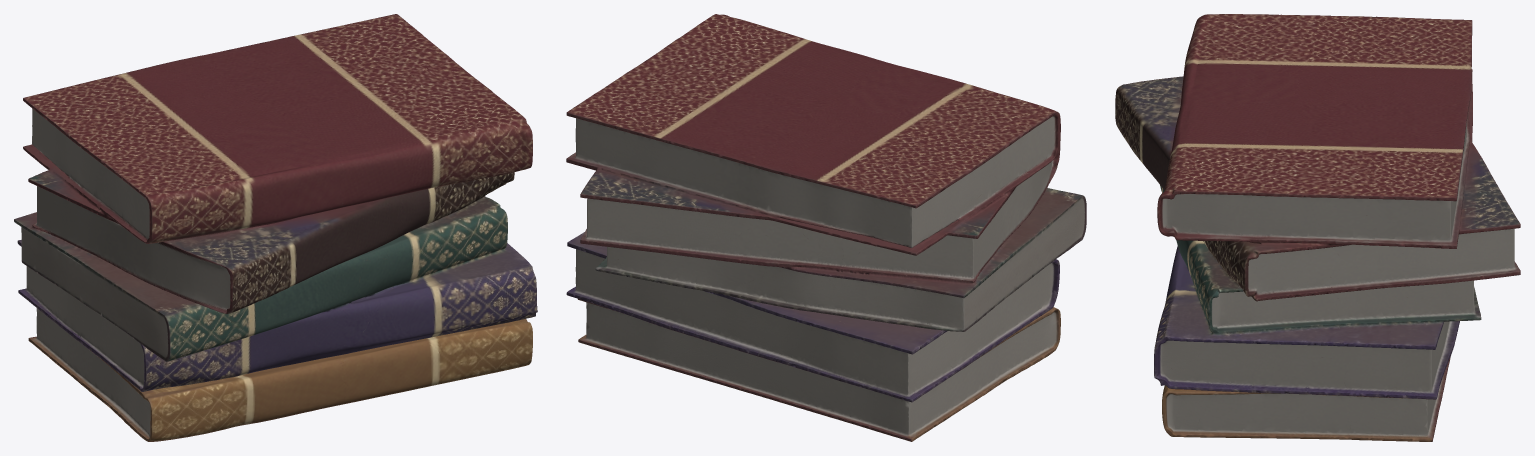
File: Meshy_AI_Ornate_Book_Stack_0917121445_texture.obj
3 views of the same model, side by side, from view 1: azimuth 30°, elevation 25°; view 2: azimuth 150°, elevation 25°; view 3: azimuth 270°, elevation 25° (orthographic). The views are drawn at different scales.
Visible parts, largest first — view 1: Meshy_AI_Ornate_Book_Stack_0917121445_texture; view 2: Meshy_AI_Ornate_Book_Stack_0917121445_texture; view 3: Meshy_AI_Ornate_Book_Stack_0917121445_texture.
Part boxes in pixels (bbox=[...]): Meshy_AI_Ornate_Book_Stack_0917121445_texture: bbox=[14, 14, 537, 441]; Meshy_AI_Ornate_Book_Stack_0917121445_texture: bbox=[566, 14, 1086, 441]; Meshy_AI_Ornate_Book_Stack_0917121445_texture: bbox=[1115, 14, 1520, 441].
Size of the model in its own units: 1.9 by 1.1 by 1.64.
Materials: 1 (1 with a texture image).
